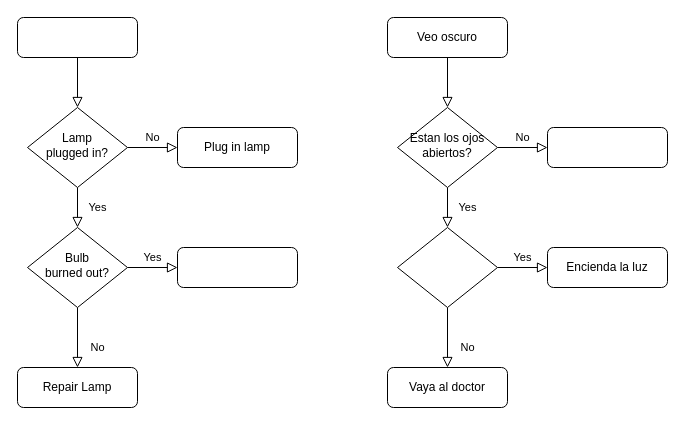
Some shapes in this 685 by 425 pixel diagram are drawn without their labels. Here are the shapes that lost their labels. From the top down, the centre of each, then its label:
At (x=77, y=37): "Lamp doesn't work".
At (x=607, y=147): "Abra sus ojos".
At (x=237, y=267): "Replace Bulb".
At (x=447, y=267): "Es de noche?".
